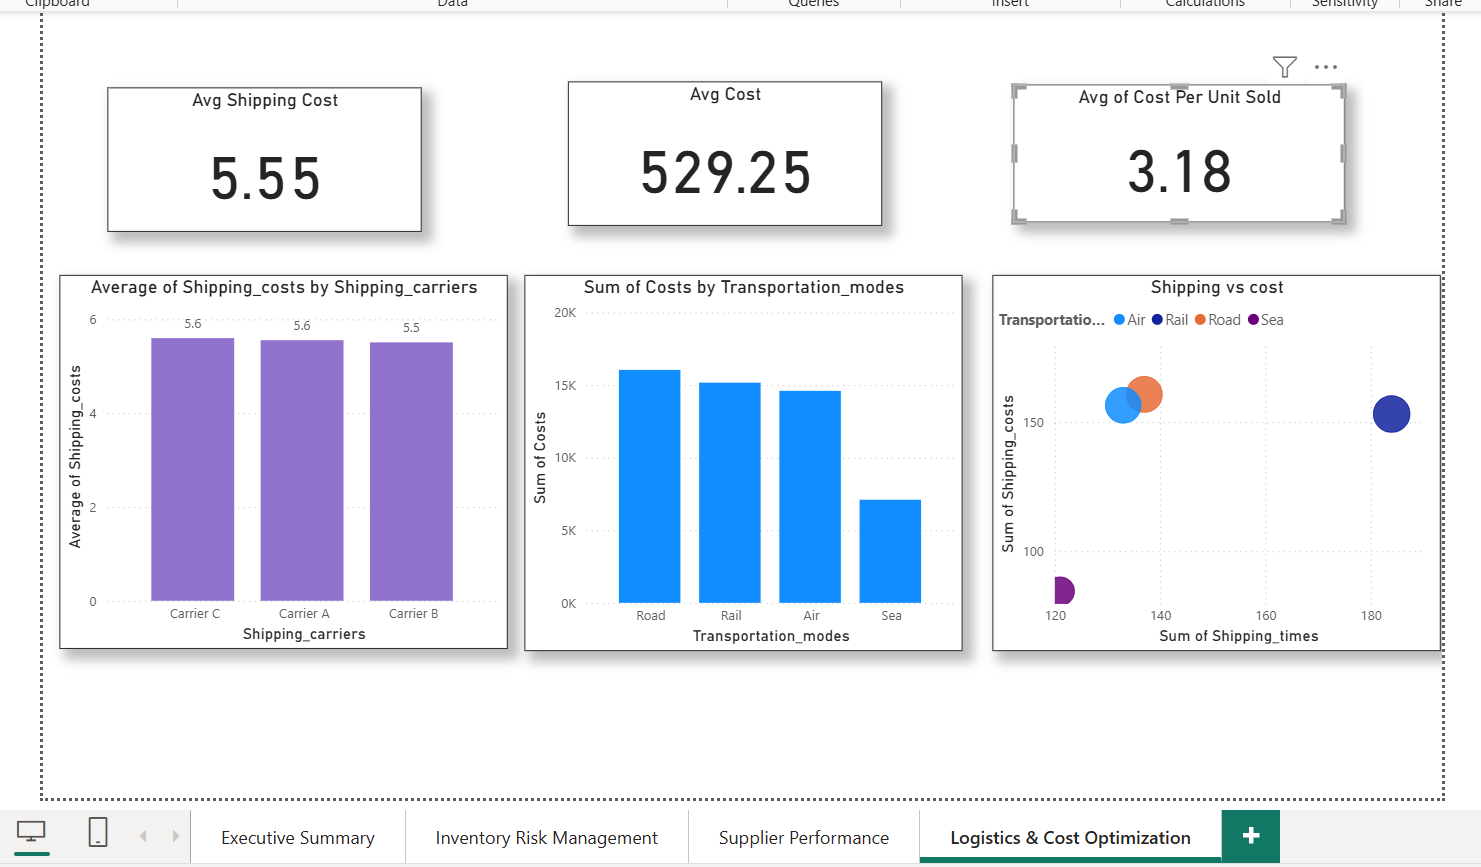

The page's visual inventory and layout, read from the dashboard file:
{"tool":"powerbi","page":{"name":"Logistics & Cost Optimization","canvas":[1280,720],"ordinal":3},"visuals":[{"type":"card","title":"Avg Shipping Cost","fields":{"Values":["Avg(supply_chain.Shipping_costs)"]},"box":[58.6,69.9,287.2,132.3],"z":0},{"type":"card","title":"Avg Cost","fields":{"Values":["Avg(supply_chain.Costs)"]},"box":[480,64.3,287.2,132.3],"z":1000},{"type":"card","title":"Avg of Cost Per Unit Sold","fields":{"Values":["Avg(supply_chain.Cost_Per_Unit_Sold)"]},"box":[909,69.9,302.4,126.6],"z":2000},{"type":"clusteredColumnChart","fields":{"Category":["supply_chain.Shipping_carriers"],"Y":["Avg(supply_chain.Shipping_costs)"]},"box":[15.1,241.9,410.1,342],"z":3000},{"type":"clusteredColumnChart","fields":{"Category":["supply_chain.Transportation_modes"],"Y":["Sum(supply_chain.Costs)"]},"box":[440.3,241.9,400.6,343.9],"z":4000},{"type":"scatterChart","title":"Shipping vs cost","fields":{"X":["Sum(supply_chain.Shipping_times)"],"Y":["Sum(supply_chain.Shipping_costs)"],"Size":["Sum(supply_chain.Revenue_generated)"],"Series":["supply_chain.Transportation_modes"]},"box":[869.3,241.9,410.1,343.9],"z":5000}]}

Visuals, with their boxes in screenshot pixels (x1, y1, x2, y2):
"Avg Shipping Cost" card: 99/85/415/230
"Avg Cost" card: 563/78/879/224
"Avg of Cost Per Unit Sold" card: 1035/85/1368/224
clusteredColumnChart - supply_chain.Shipping_carriers x Avg(supply_chain.Shipping_costs): 51/274/503/650
clusteredColumnChart - supply_chain.Transportation_modes x Sum(supply_chain.Costs): 519/274/960/652
"Shipping vs cost" scatterChart: 991/274/1443/652
